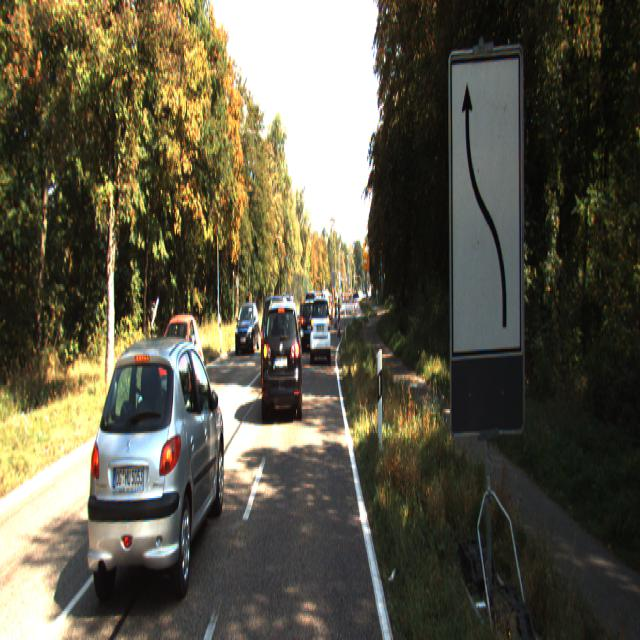Car: (83, 327, 225, 618), (152, 313, 204, 414), (261, 296, 302, 421), (259, 293, 292, 383), (234, 297, 259, 352), (310, 293, 330, 359)
